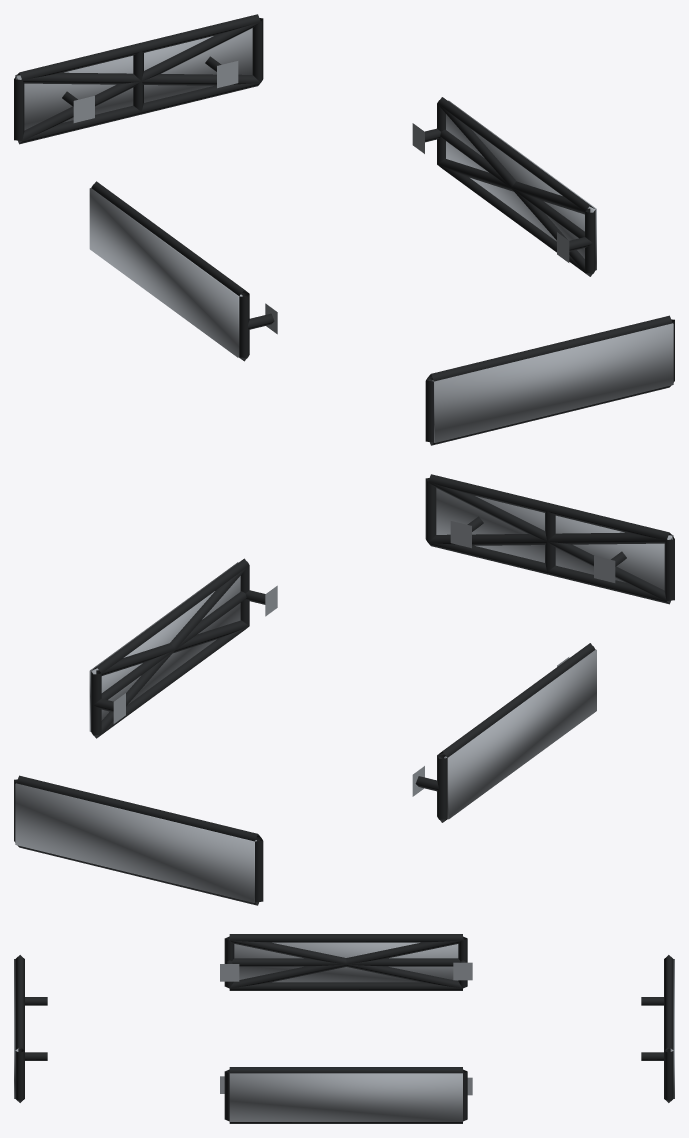
File: saulieu_arbusto_protecao.glb
The picture shows the model from 3 angles, top to bottom: view 1: azimuth 30°, elevation 25°; view 2: azimuth 150°, elevation 25°; view 3: azimuth 270°, elevation 25°; orthographic projection. The views are drawn at different scales.
Visible parts, largest first — view 1: Protection_front_Level3_Details, Protection_left_Level3_Details, Protection_rear_Level1_Details, Protection_rear_Level3_Details, Protection_right_Level1_Details, Protection_rear_Level2_Details, Protection_right_Level2_Details, Protection_right_Level3_Details, Protection_front_Level1_Details, Protection_left_Level1_Details; view 2: Protection_rear_Level3_Details, Protection_left_Level3_Details, Protection_front_Level1_Details, Protection_front_Level3_Details, Protection_right_Level1_Details, Protection_front_Level2_Details, Protection_right_Level2_Details, Protection_right_Level3_Details, Protection_rear_Level1_Details, Protection_left_Level1_Details; view 3: Protection_right_Level3_Details, Protection_left_Level2_Details, Protection_left_Level1_Details, Protection_left_Level3_Details, Protection_right_Level1_Details, Protection_rear_Level1_Details, Protection_front_Level1_Details.
Boxes of the visible parts, box(x1,y1,x2,y2) form: Protection_front_Level3_Details: box(432, 323, 673, 442); Protection_left_Level3_Details: box(89, 188, 242, 357); Protection_rear_Level1_Details: box(14, 14, 263, 144); Protection_rear_Level3_Details: box(15, 28, 252, 130); Protection_right_Level1_Details: box(412, 97, 595, 276); Protection_rear_Level2_Details: box(16, 22, 260, 142); Protection_right_Level2_Details: box(437, 104, 594, 276); Protection_right_Level3_Details: box(446, 100, 596, 270); Protection_front_Level1_Details: box(425, 315, 674, 445); Protection_left_Level1_Details: box(91, 181, 277, 361); Protection_rear_Level3_Details: box(15, 783, 256, 902); Protection_left_Level3_Details: box(444, 649, 596, 819); Protection_front_Level1_Details: box(425, 474, 674, 604); Protection_front_Level3_Details: box(436, 488, 673, 590); Protection_right_Level1_Details: box(91, 558, 277, 738); Protection_front_Level2_Details: box(428, 482, 672, 602); Protection_right_Level2_Details: box(91, 566, 249, 737); Protection_right_Level3_Details: box(89, 562, 240, 731); Protection_rear_Level1_Details: box(14, 775, 263, 905); Protection_left_Level1_Details: box(412, 643, 595, 822); Protection_right_Level3_Details: box(229, 1073, 462, 1121); Protection_left_Level2_Details: box(229, 937, 463, 988); Protection_left_Level1_Details: box(220, 934, 472, 990); Protection_left_Level3_Details: box(234, 942, 458, 982); Protection_right_Level1_Details: box(220, 1067, 472, 1123); Protection_rear_Level1_Details: box(641, 955, 673, 1102); Protection_front_Level1_Details: box(15, 955, 47, 1102).
Bounding box in the file's own units: 1.85 × 0.354 × 3.74.
1 material, 1 textured.
